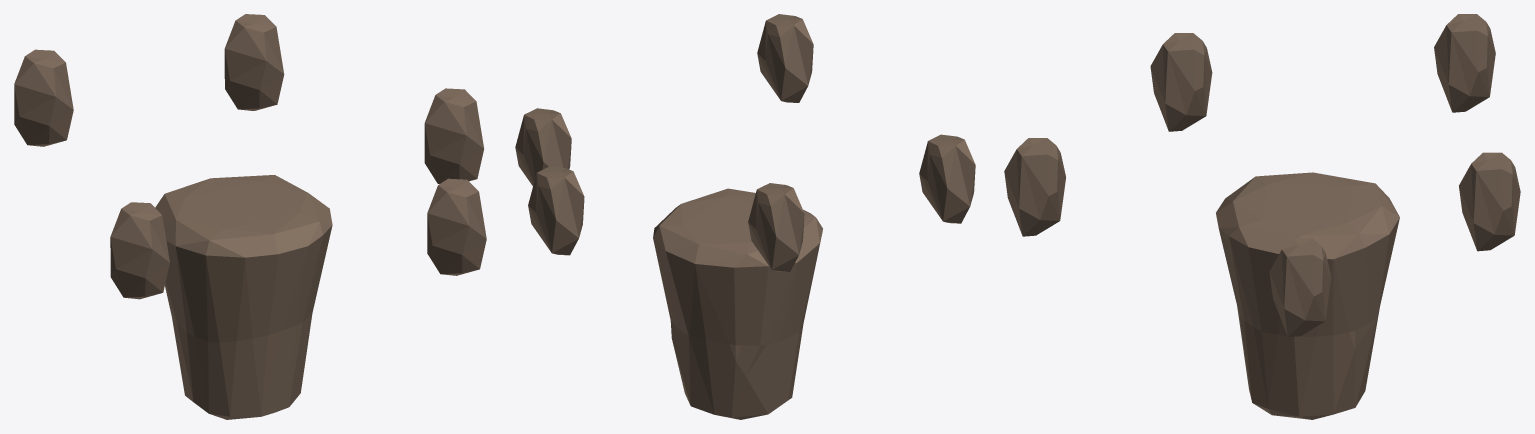
Rendered from Rock_Big.glb.
3 views of the same model, side by side, from view 1: azimuth 30°, elevation 25°; view 2: azimuth 150°, elevation 25°; view 3: azimuth 270°, elevation 25° (orthographic). The views are drawn at different scales.
Visible parts, largest first — view 1: 立方体, 立方体.001, 立方体.004, 立方体.006, 立方体.003, 立方体.005; view 2: 立方体, 立方体.004, 立方体.003, 立方体.006, 立方体.001, 立方体.005; view 3: 立方体, 立方体.001, 立方体.005, 立方体.004, 立方体.003, 立方体.006.
Part boxes in pixels (x1,y1,x2,y2): 立方体: (155, 175, 332, 419); 立方体.001: (224, 14, 284, 110); 立方体.004: (110, 202, 169, 299); 立方体.006: (427, 178, 486, 275); 立方体.003: (14, 49, 73, 146); 立方体.005: (424, 88, 484, 183); 立方体: (653, 188, 822, 419); 立方体.004: (919, 134, 975, 223); 立方体.003: (748, 183, 804, 271); 立方体.006: (757, 14, 813, 102); 立方体.001: (528, 166, 584, 255); 立方体.005: (515, 108, 571, 185); 立方体: (1216, 172, 1399, 419); 立方体.001: (1459, 152, 1520, 251); 立方体.005: (1269, 238, 1331, 336); 立方体.004: (1150, 33, 1212, 131); 立方体.003: (1434, 14, 1495, 112); 立方体.006: (1004, 138, 1065, 236).
Bounding box in the file's own units: 134 × 95.58 × 138.
